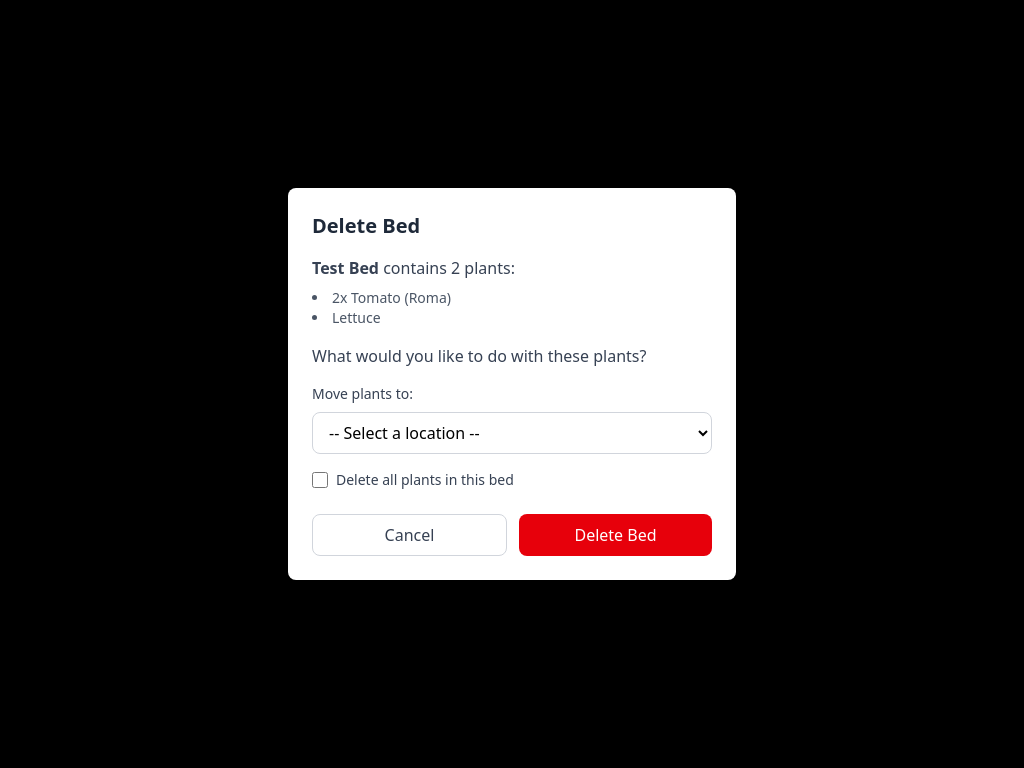
it: BedDeleteDialog Component › Bed with Plants Deletion › should show error when submitting without selecting destination or delete option
Click the button "Delete Bed": (616, 535) [519,514,712,556]
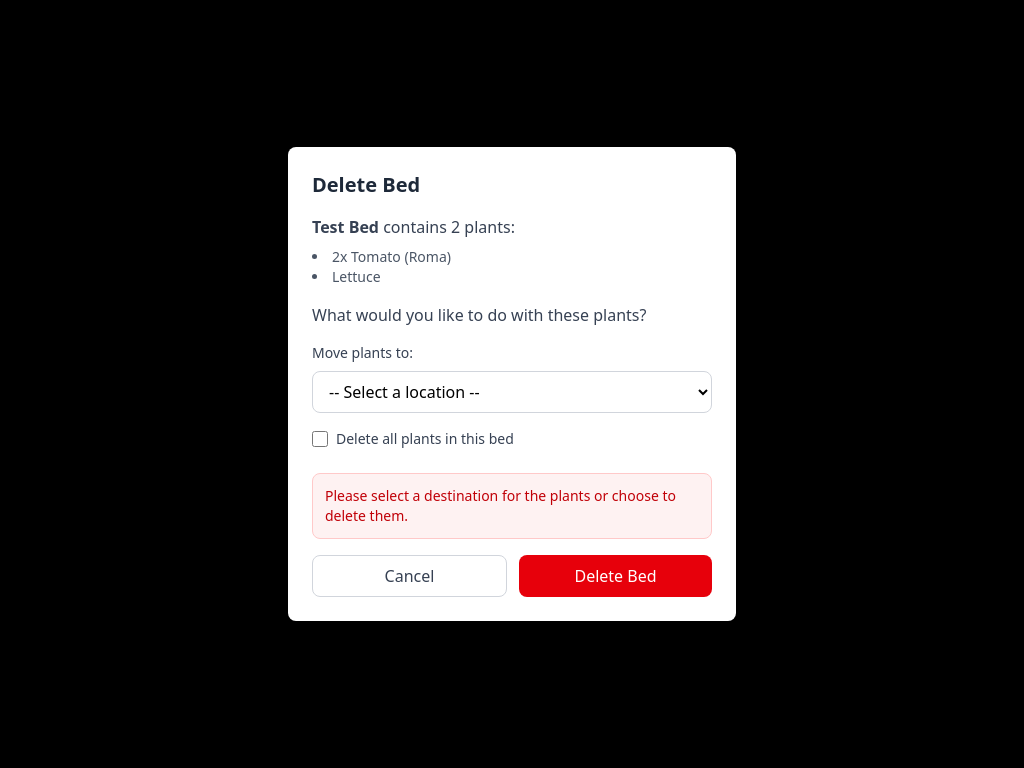
expect the text "Please select a destination" is shown: met, box [325,486,676,525]
